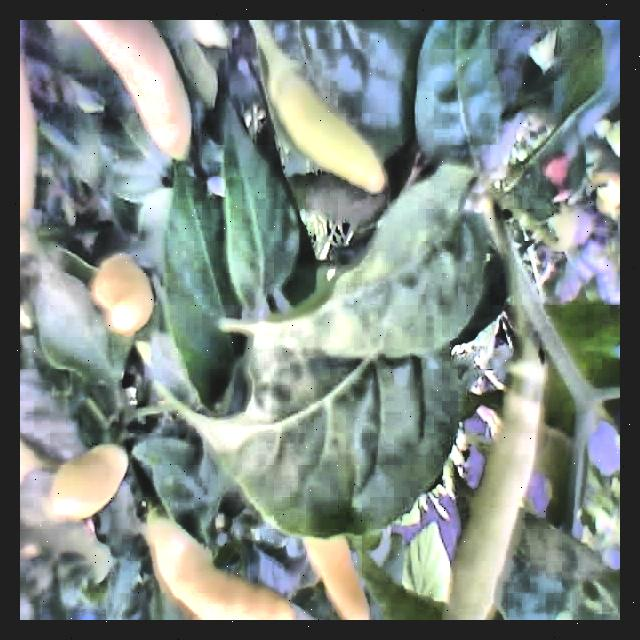Cabai: (81, 20, 206, 176), (29, 411, 143, 544), (154, 516, 291, 620), (78, 241, 166, 357), (312, 533, 369, 620)
